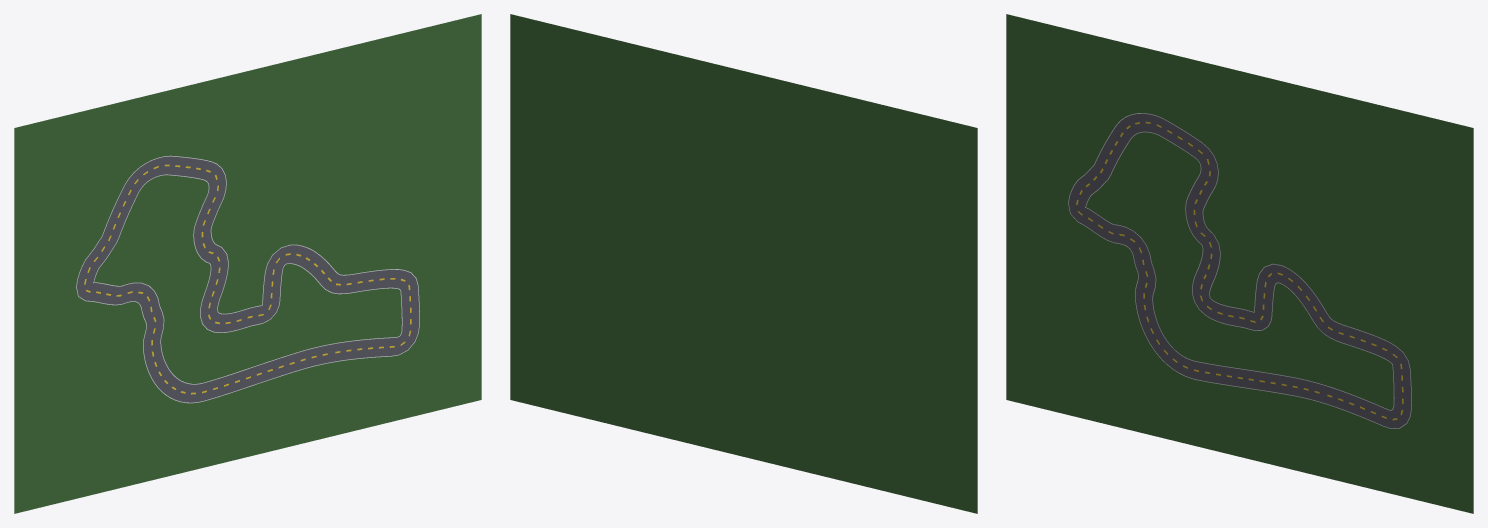
Rendered from track.obj.
3 renders of one model, left to right at view 1: azimuth 30°, elevation 25°; view 2: azimuth 150°, elevation 25°; view 3: azimuth 330°, elevation 25°, orthographic.
Size of the model in its own units: 27.63 by 21.79 by 0.0025.
Materials: 4 (4 with a texture image).
